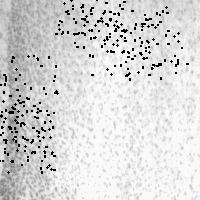pitted_surface: (1, 1, 197, 200), (88, 19, 148, 75), (120, 6, 177, 64), (0, 55, 56, 114), (126, 23, 186, 78), (0, 116, 53, 171), (0, 102, 46, 160), (0, 84, 44, 141), (73, 0, 122, 46), (50, 0, 109, 33), (67, 0, 123, 33)
